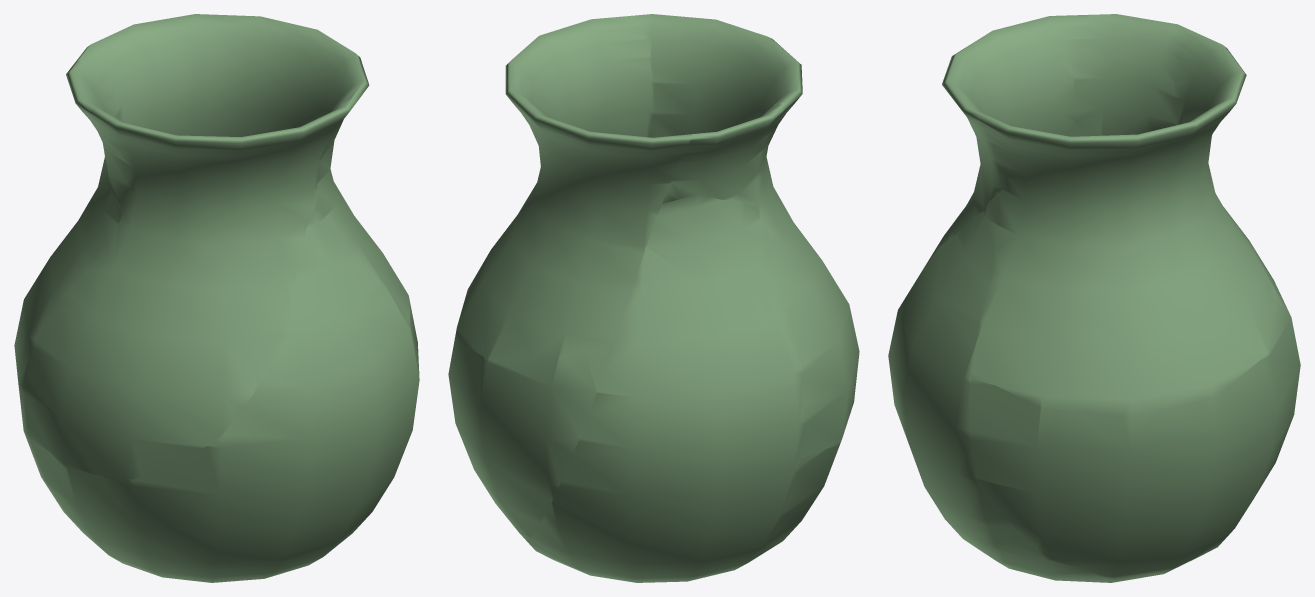
File: ClayPot2_lp.fbx
3 views of the same model, side by side, from view 1: azimuth 30°, elevation 25°; view 2: azimuth 150°, elevation 25°; view 3: azimuth 270°, elevation 25° (orthographic).
Parts seen in each view (by area): view 1: shard6, shard2, shard1, shard3, shard7; view 2: shard3, shard1, shard6, shard5, shard7, shard2; view 3: shard1, shard5, shard2, shard6, shard7, shard3, shard4.
Part boxes in pixels (x1,y1,x2,y2): shard6: (23,98,356,479); shard2: (27,188,419,582); shard1: (75,14,410,322); shard3: (14,148,120,537); shard7: (66,61,128,218); shard3: (527,194,805,582); shard1: (455,15,691,358); shard6: (634,14,859,454); shard5: (448,339,612,541); shard7: (662,104,783,212); shard2: (648,127,854,556); shard1: (971,32,1276,417); shard5: (969,258,1300,578); shard2: (888,193,1015,570); shard6: (929,15,1088,259); shard7: (1074,14,1194,136); shard3: (995,126,1284,582); shard4: (976,480,1034,546).
Size of the model in its own units: 1.41 by 1.77 by 1.43.
